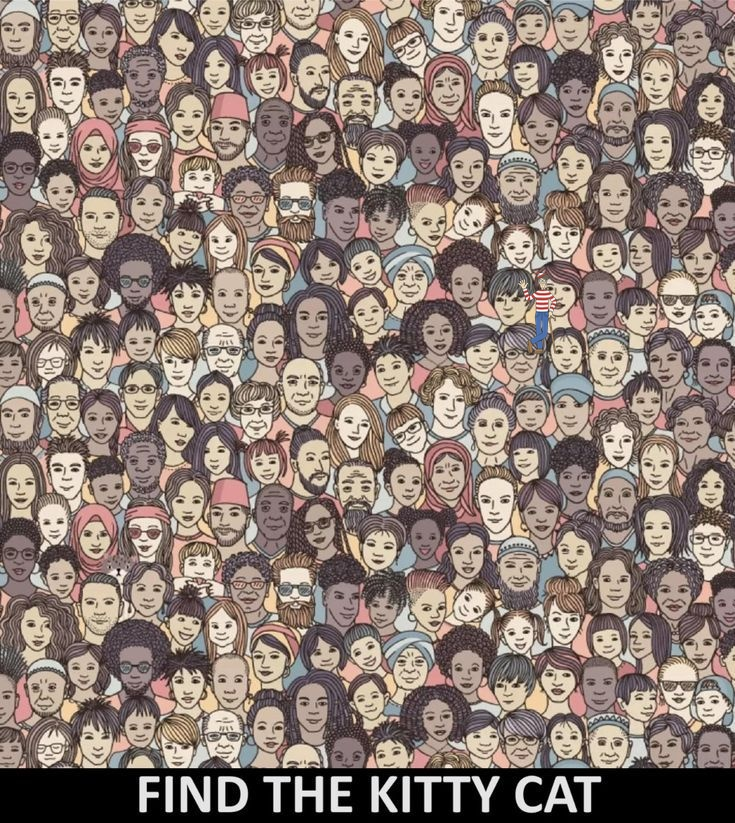waldo: (518, 271, 557, 354)
